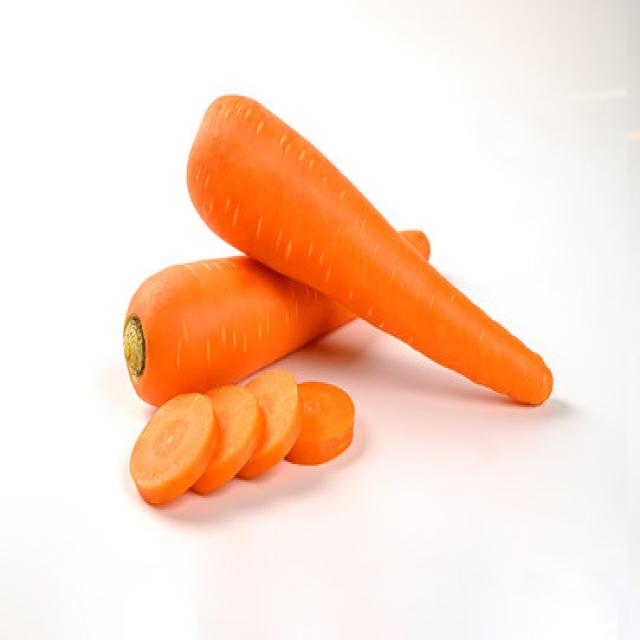Carrot: (184, 91, 554, 405), (122, 253, 358, 407), (236, 368, 300, 478), (398, 228, 430, 262)
